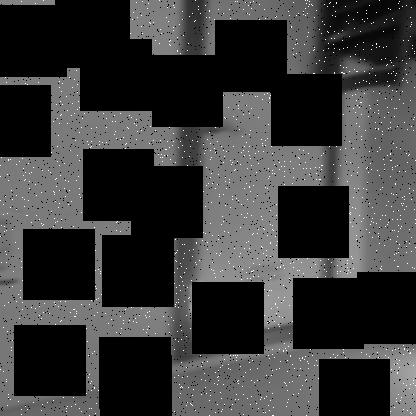Porte: (166, 0, 344, 368)
